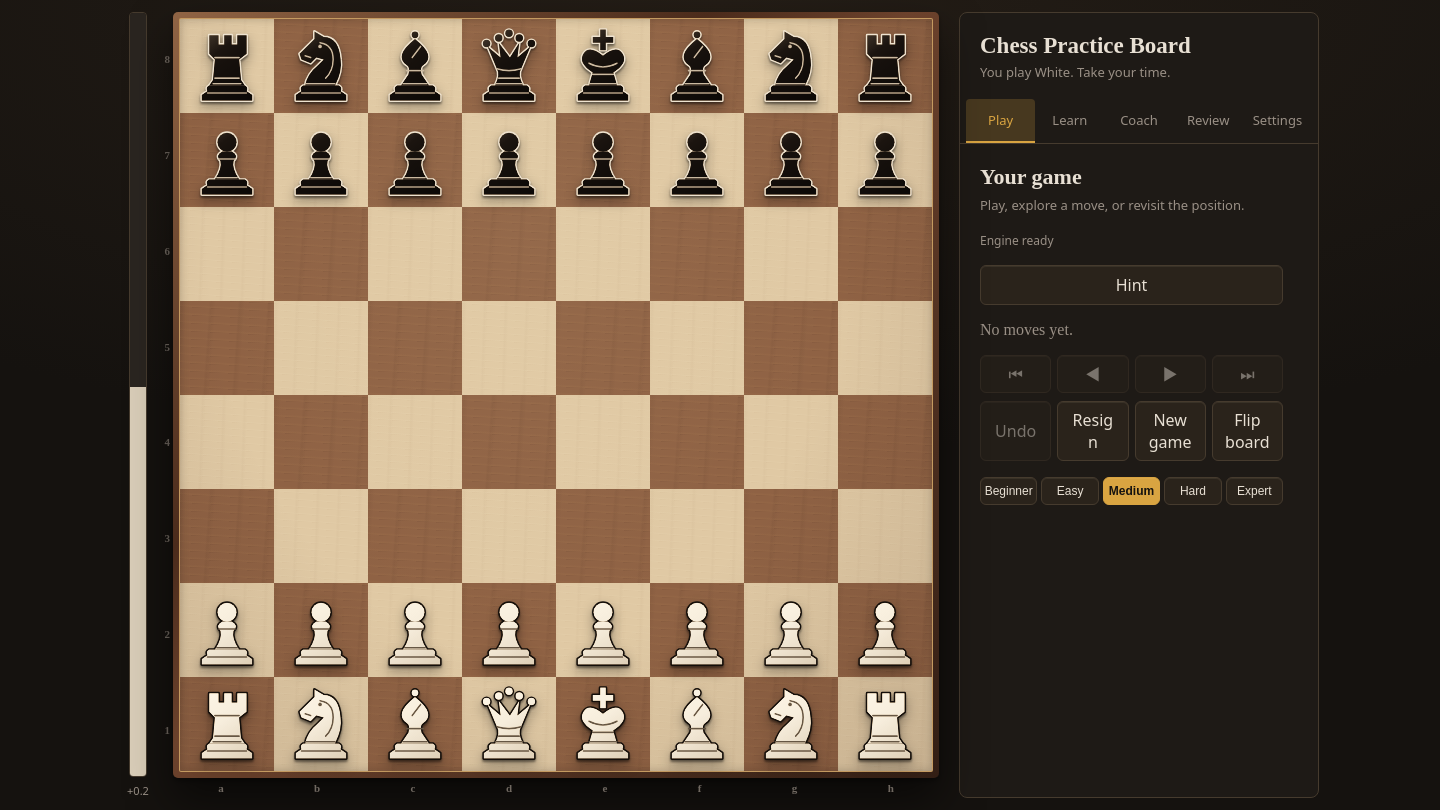
Test case: App › does not move for the engine in a game that has ended
Click the button named "e2, white pawn" at (603, 630), box [556,583,650,677]
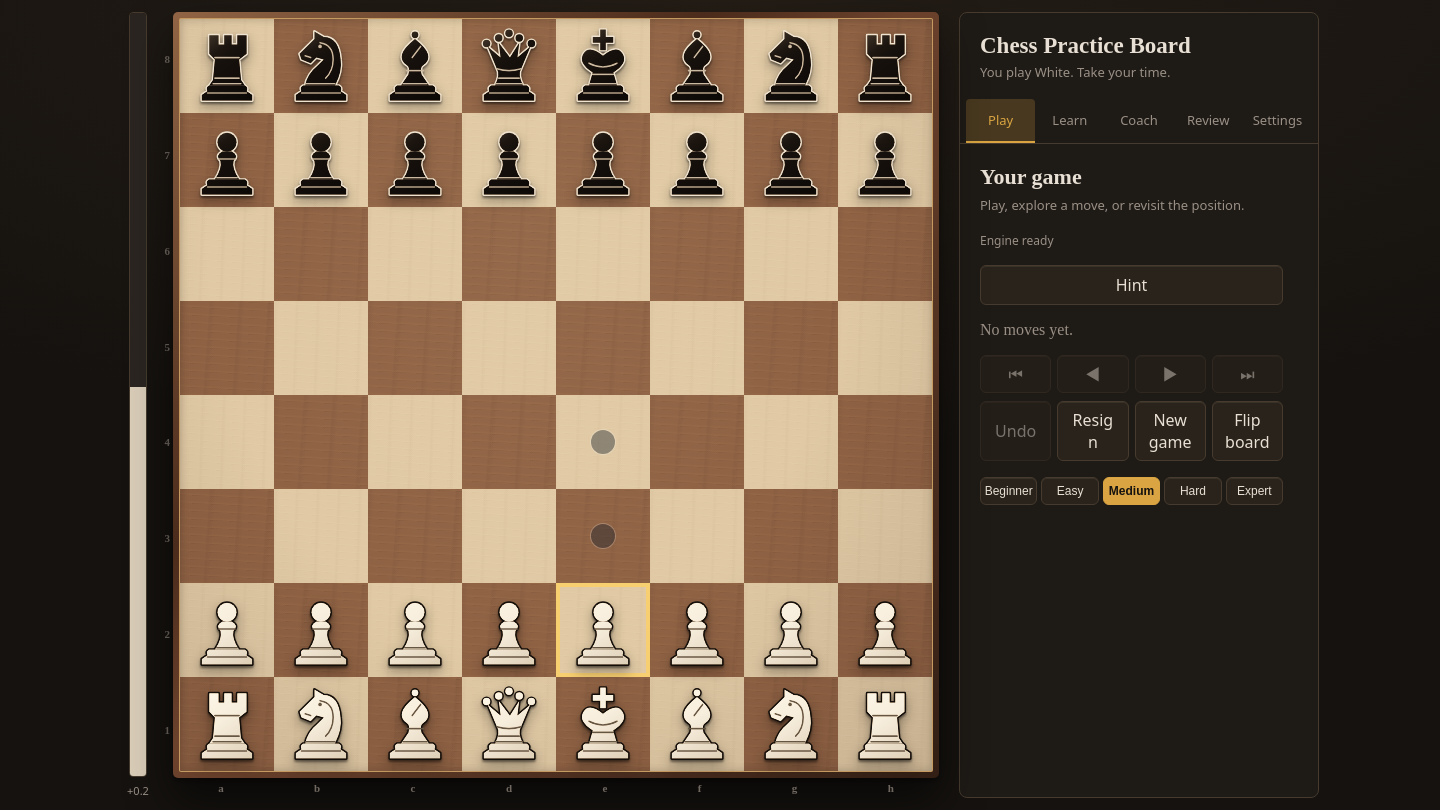
Click the button named "e4, empty" at (603, 442), box [556,395,650,489]
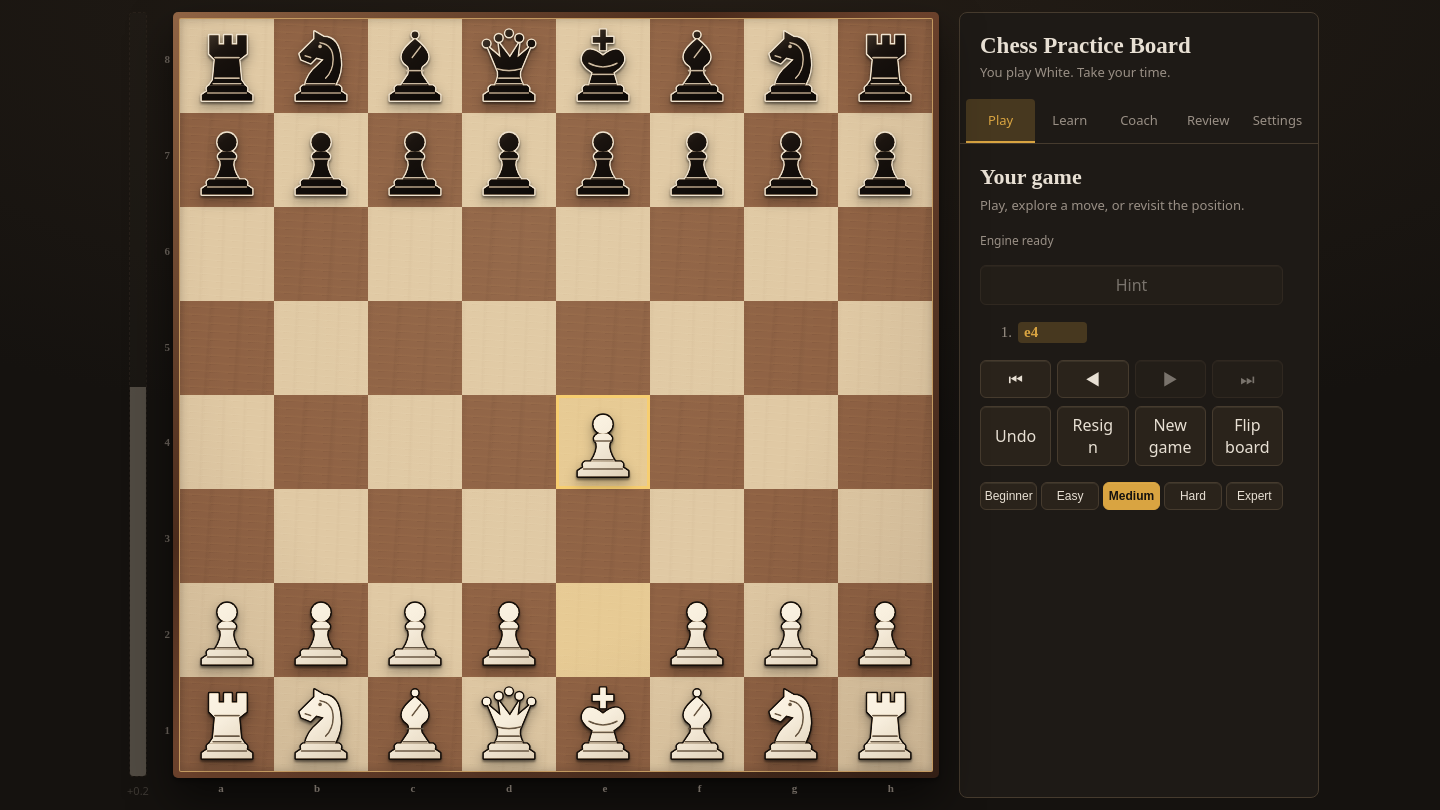
Click the button "Resign" at (1093, 436), box [1057,406,1129,466]
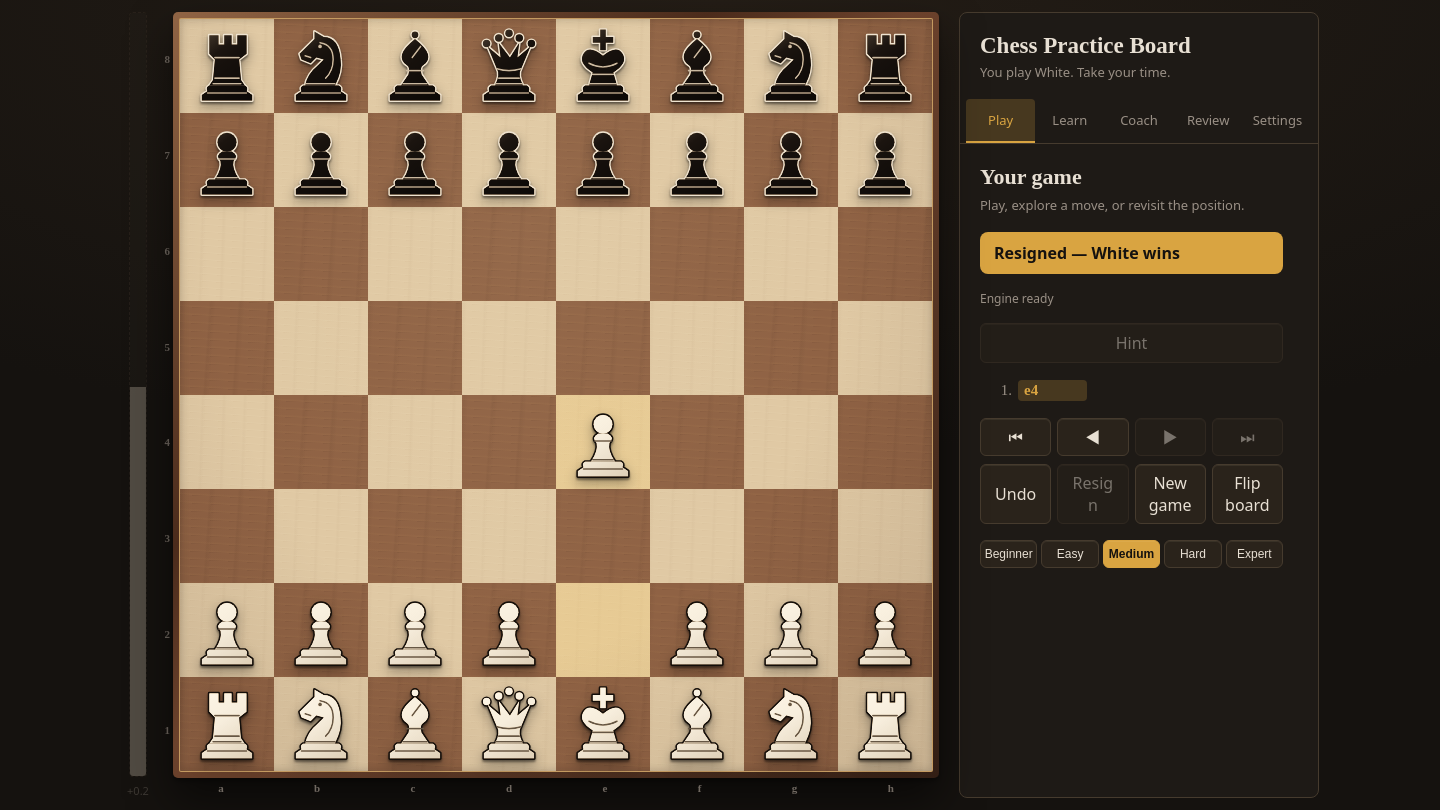
Expected: the text "Resigned — White wins" is shown, [980,232,1283,274]
